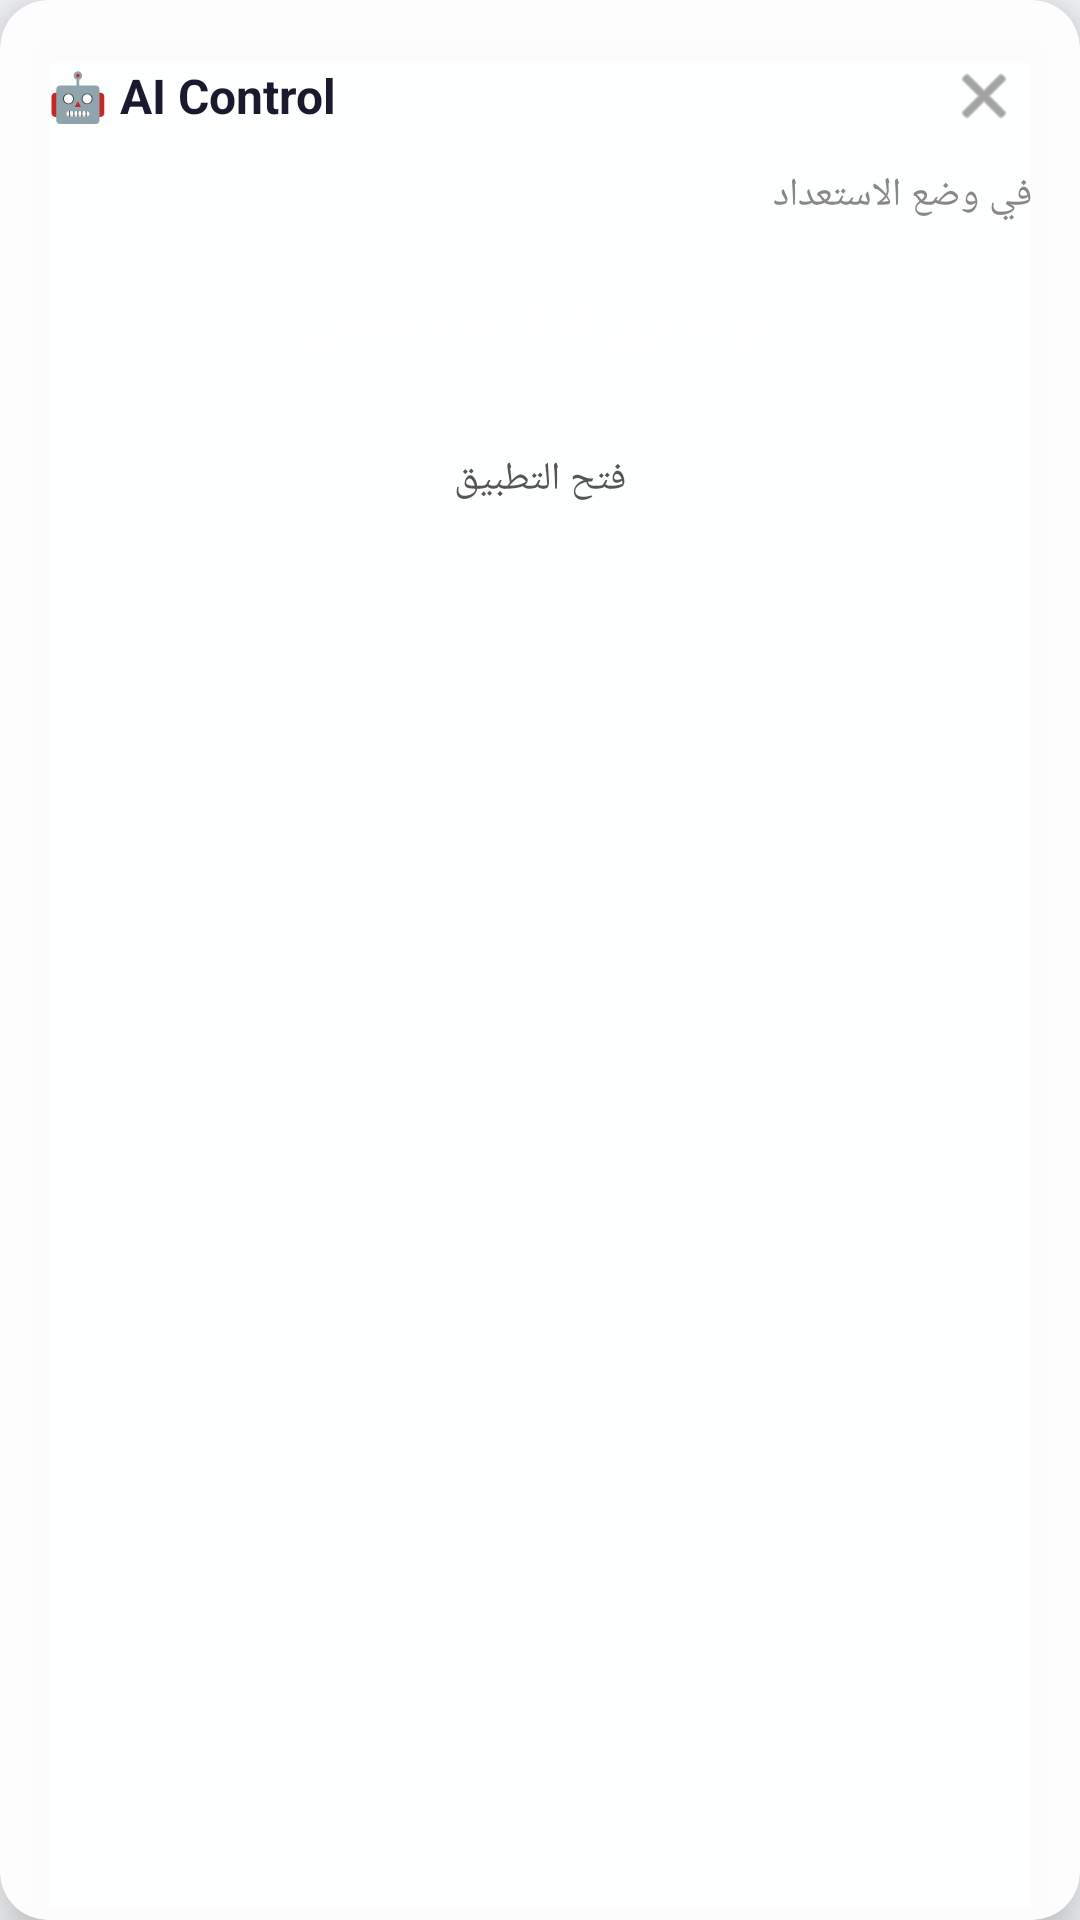

Icons on this 1080 x 1920 Android screen, each with the point to tap as [x,y]:
إغلاق: [984,96]
